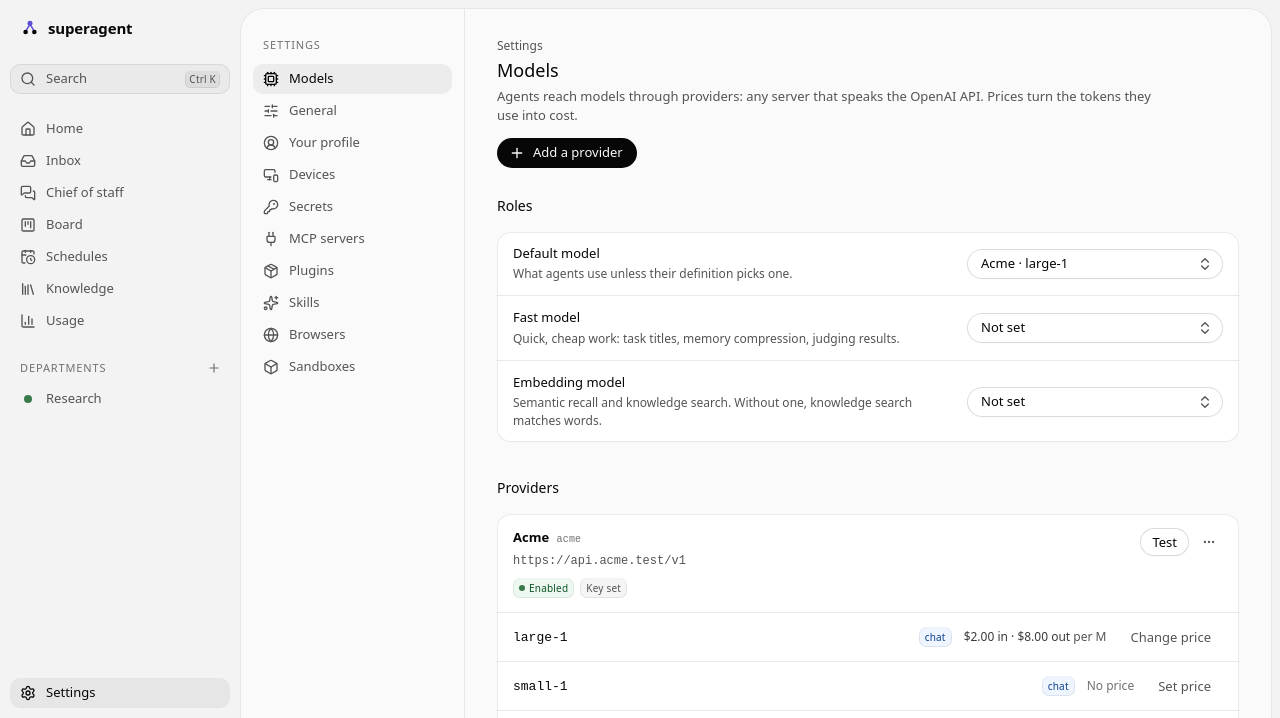
Test: models › prices a model from now on
Click the button with aria-label "Set price of small-1" at (1185, 686), box x1=1146 y1=672 x2=1223 y2=700
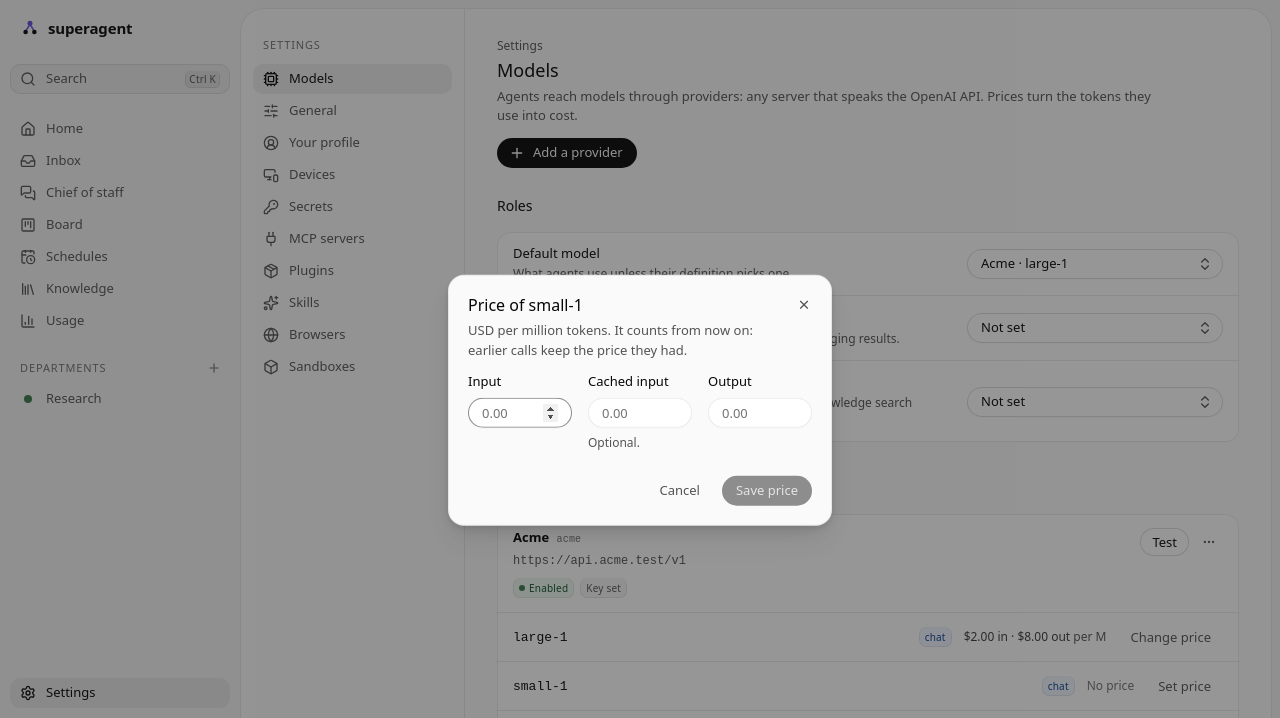
Type "0.5" into the number field labelled "Input" at (520, 412), box x1=468 y1=397 x2=572 y2=427
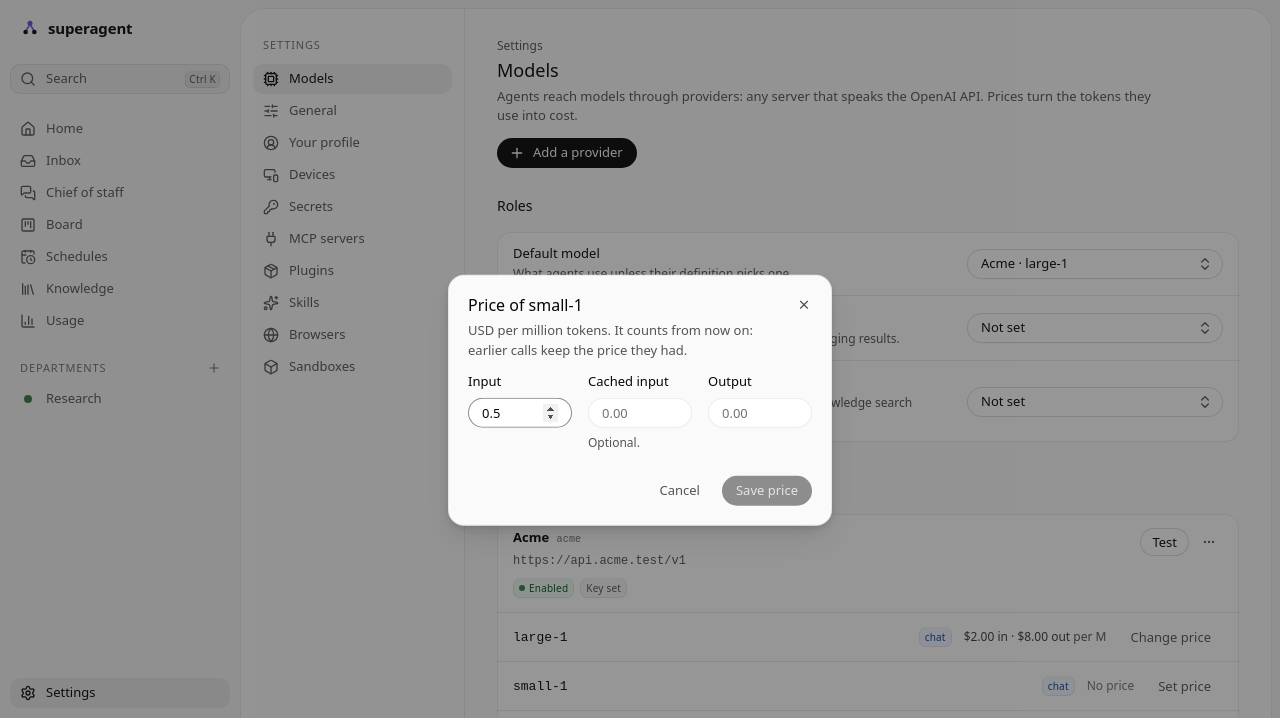
Type "1.5" into the number field labelled "Output" at (760, 412), box x1=708 y1=397 x2=812 y2=427
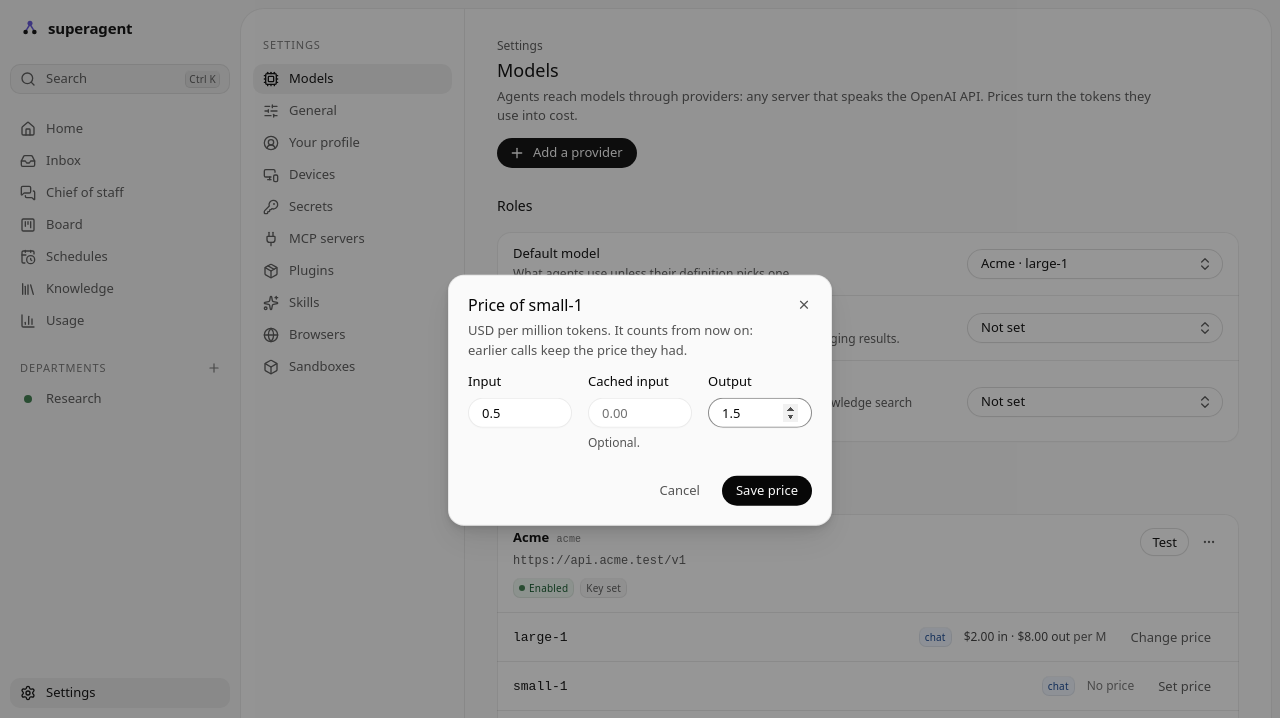
Click the button "Save price" at (767, 490), box x1=722 y1=475 x2=812 y2=505
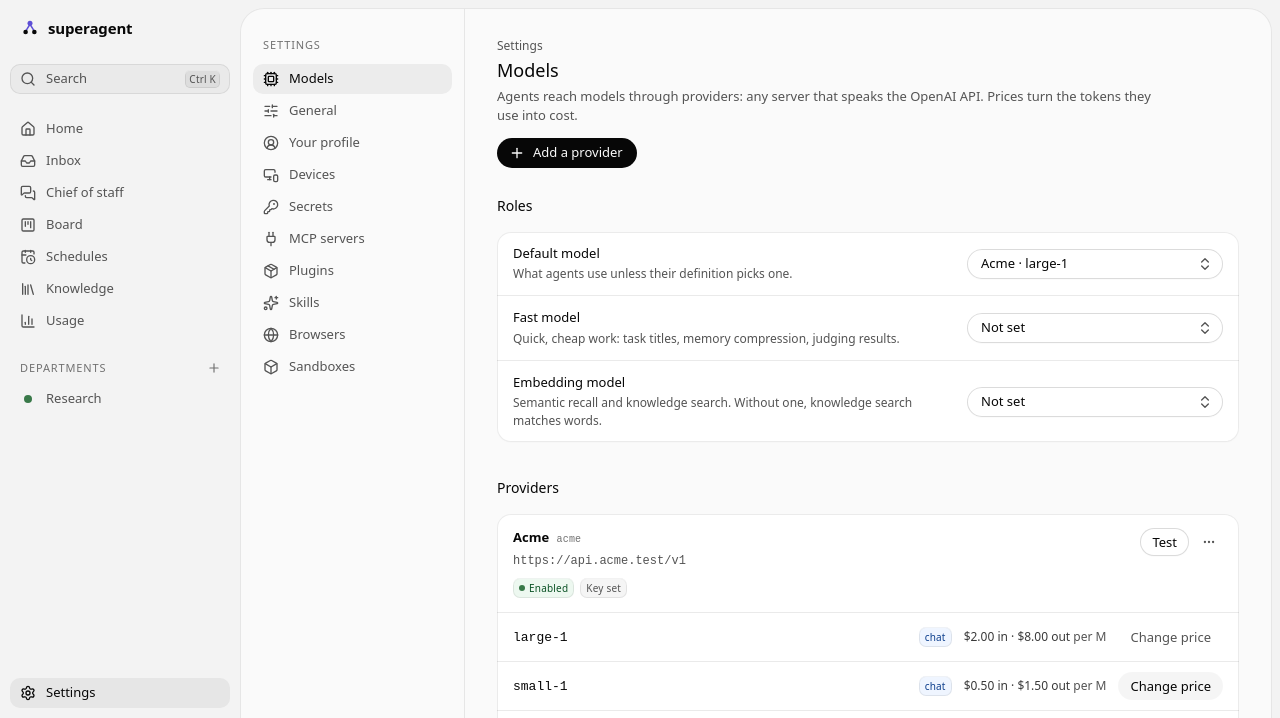
Now the list item "small-1 chat $0.50 in · $1.50 out per M Change price" is shown, box x1=497 y1=662 x2=1239 y2=711
